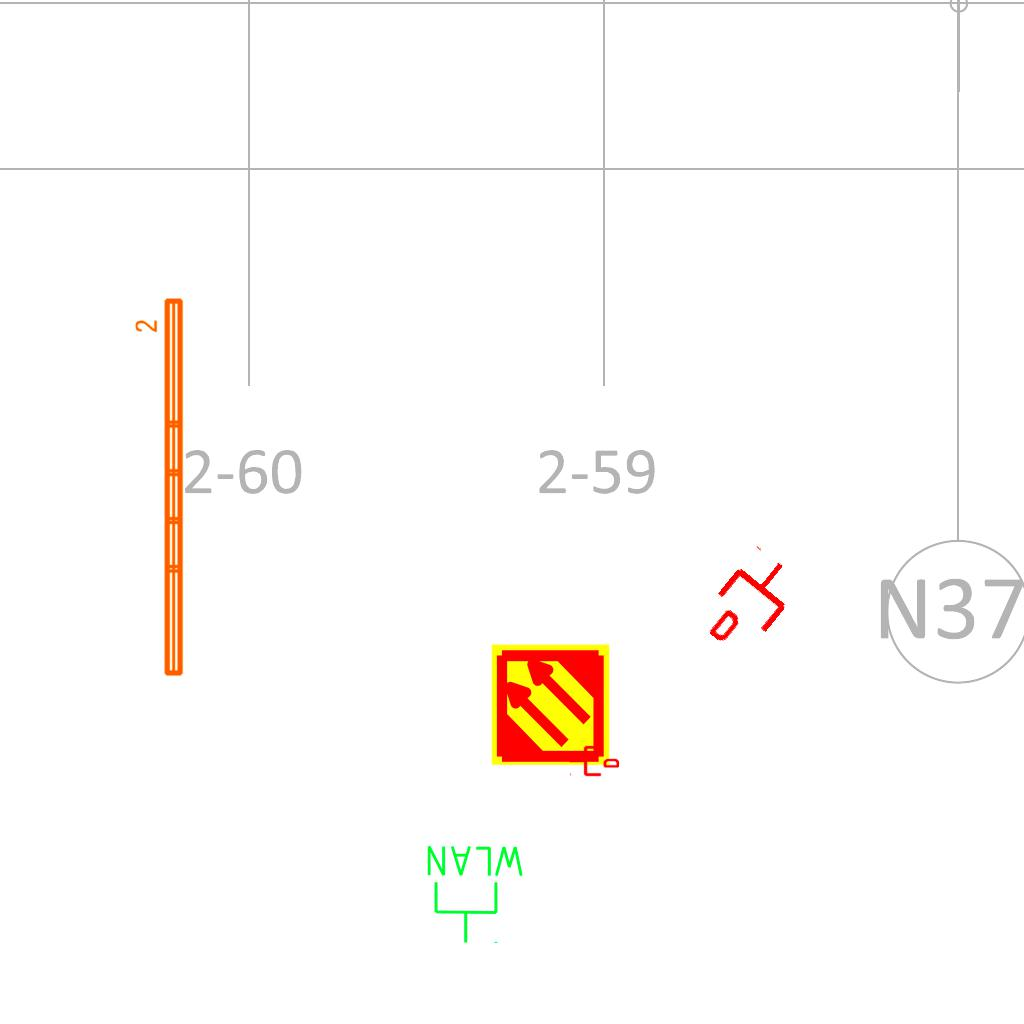ASR_Ansaugrauchmelder: (488, 642, 613, 767)
Ambulanz_Pendelleuchte_LED: (133, 294, 189, 681)
Datenanschluss_einfach: (692, 541, 809, 663), (569, 744, 619, 778)
WLAN: (423, 842, 528, 946)
